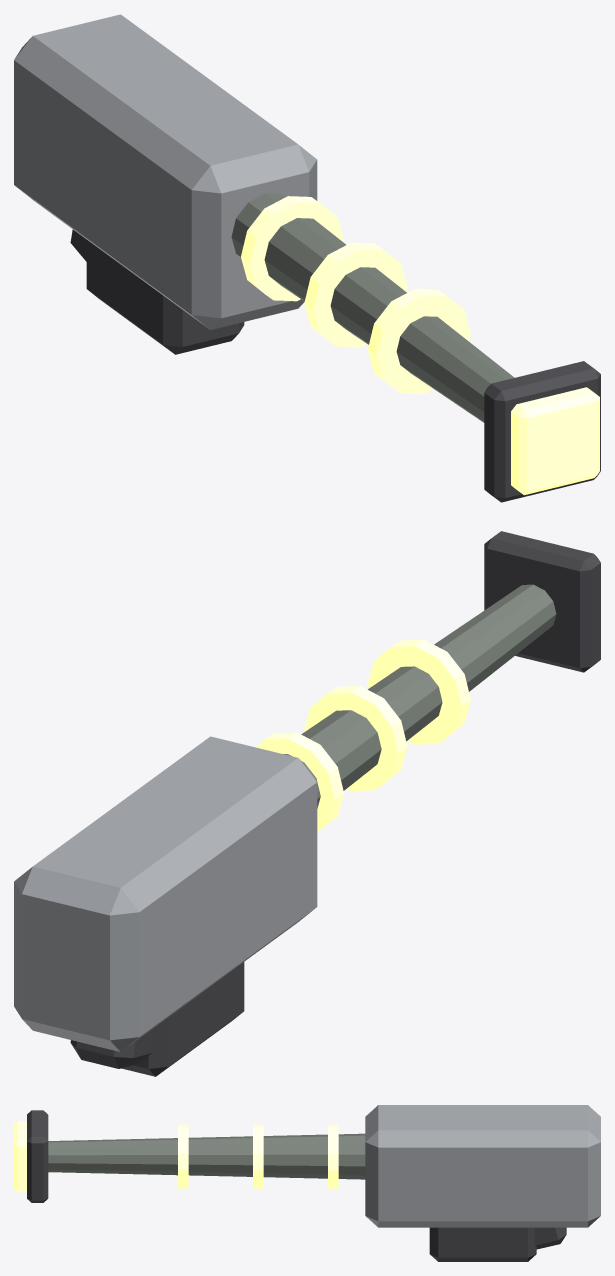
Rendered from weapon-emitter.glb.
The picture shows the model from 3 angles, top to bottom: view 1: azimuth 30°, elevation 25°; view 2: azimuth 150°, elevation 25°; view 3: azimuth 270°, elevation 25°; orthographic projection. The views are drawn at different scales.
Parts seen in each view (by area): view 1: weapon-emitter; view 2: weapon-emitter; view 3: weapon-emitter.
Part boxes in pixels (bbox=[...]): weapon-emitter: bbox=[14, 14, 600, 502]; weapon-emitter: bbox=[14, 531, 600, 1076]; weapon-emitter: bbox=[14, 1105, 600, 1261].
Size of the model in its own units: 0.4 by 0.7 by 2.74.
